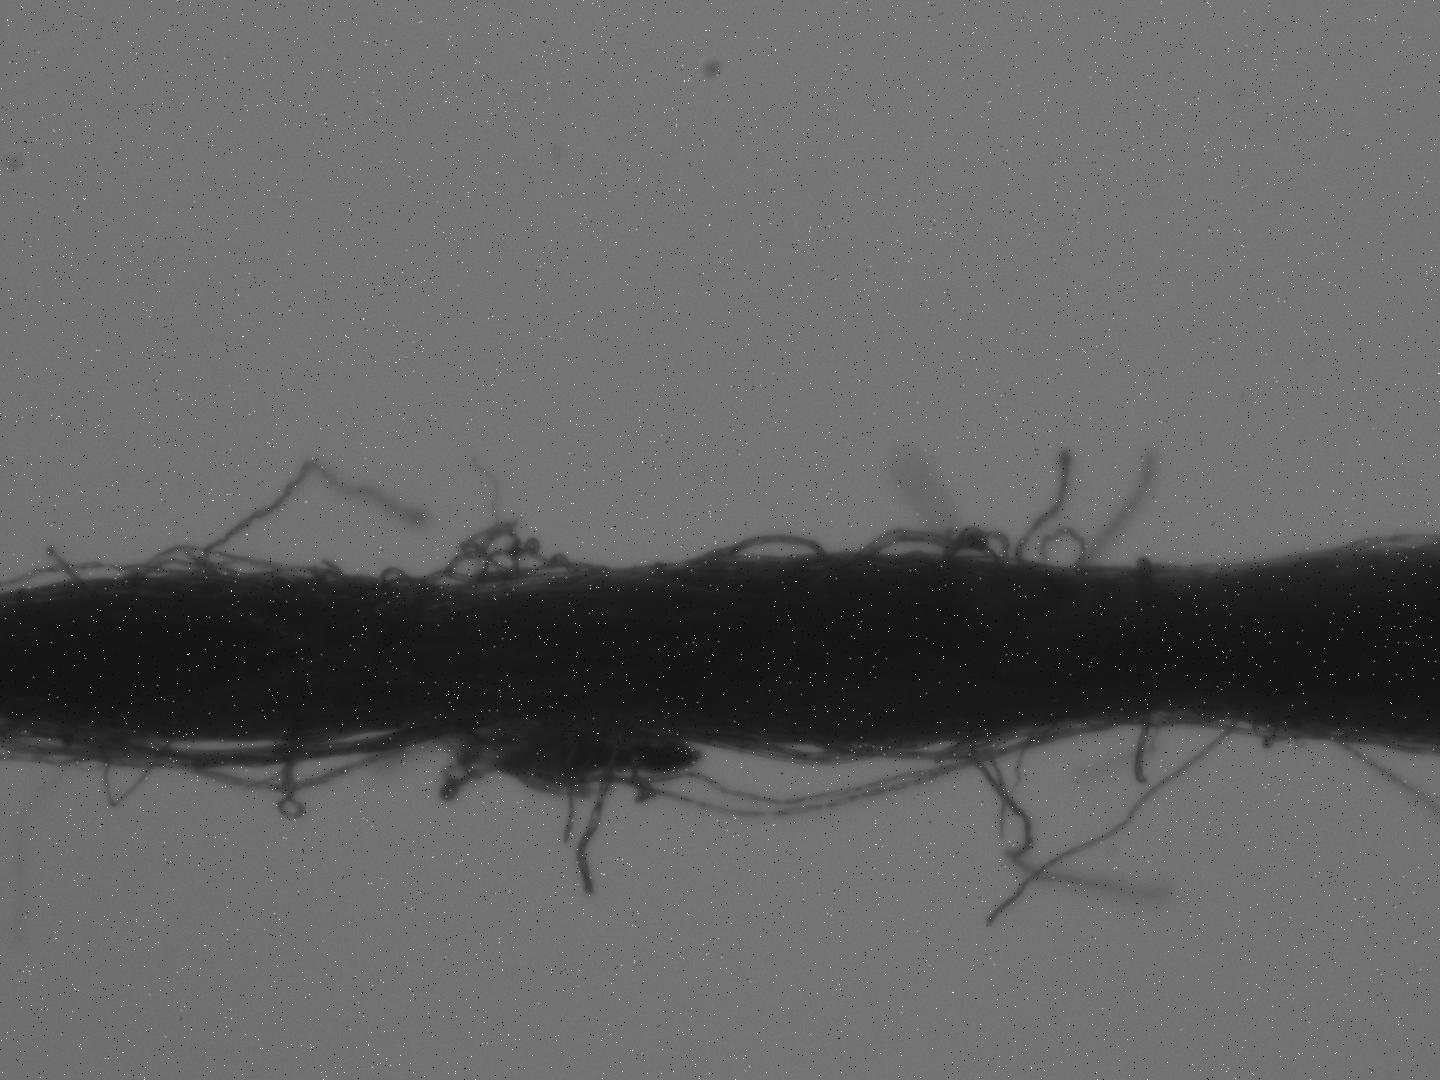loop_fiber: (455, 722, 701, 799), (24, 727, 437, 768), (424, 525, 603, 594), (831, 722, 1073, 763), (125, 542, 298, 588), (862, 526, 998, 565), (761, 739, 918, 763), (710, 535, 831, 563), (230, 569, 348, 593), (951, 529, 1011, 573), (1047, 529, 1092, 571)
protruding_fiber: (988, 718, 1246, 926), (1008, 448, 1075, 573), (577, 774, 612, 893), (1130, 712, 1157, 787)
